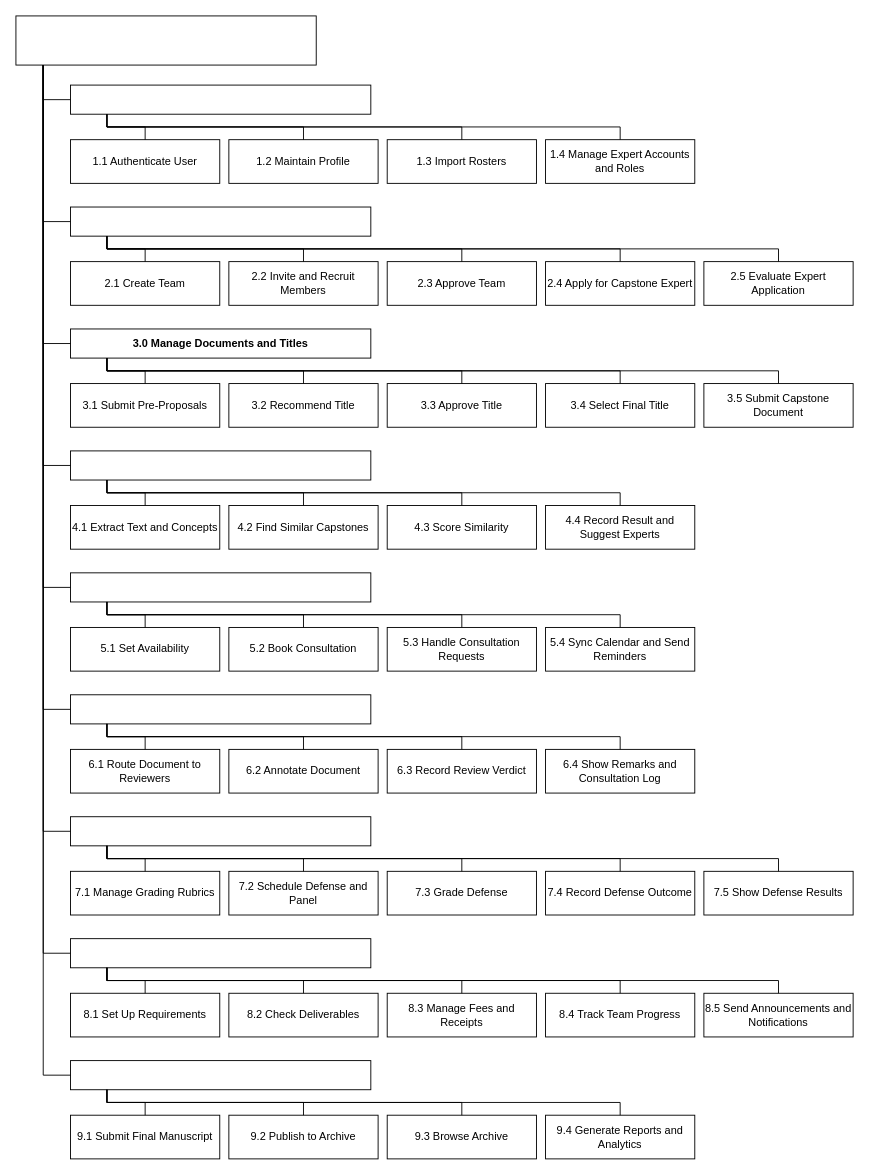
The diagram is 869 pixels wide and 1175 high, and some of its shapes have lost their labels. Each missing label, with the box of its shape:
1.0 Manage Accounts and Access: (70, 84, 371, 114)
2.0 Manage Teams and Expert Applications: (70, 206, 371, 236)
4.0 Check Duplication: (70, 450, 371, 480)
5.0 Manage Consultations: (70, 572, 371, 602)
6.0 Review and Annotate Documents: (70, 694, 371, 724)
7.0 Manage Defense and Grading: (70, 816, 371, 846)
8.0 Monitor Progress and Notify Users: (70, 938, 371, 968)
9.0 Archive and Report: (70, 1060, 371, 1090)
CapsTrack Capstone Project Tracking System: (15, 15, 316, 65)
